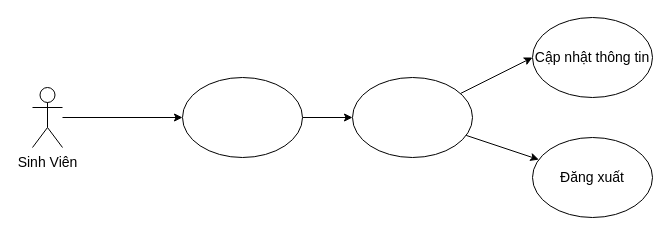
Image size: 670x235. Some labels were removed from this diagram. Each missing label, with the centre of its shape:
Quản lý tài khoản: (412,117)
Đăng nhập: (242,117)
